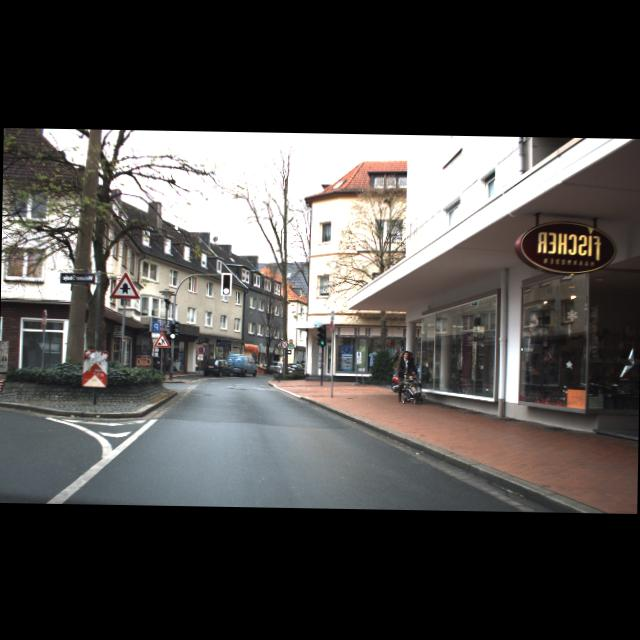danger: (108, 268, 141, 298), (152, 331, 170, 347)
prohibitory: (280, 339, 288, 348)
